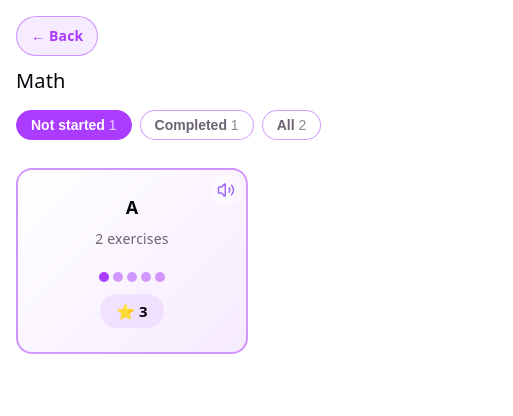
Scenario: BundleList completion filter › switches to completed and back to all
This screenshot has width=513, height=416.
Expected: the link "A 2 exercises ⭐ 3" is shown, 16,168 -> 248,354
Click the button "Completed 1".
click(197, 125)  # box 140,110 -> 254,140
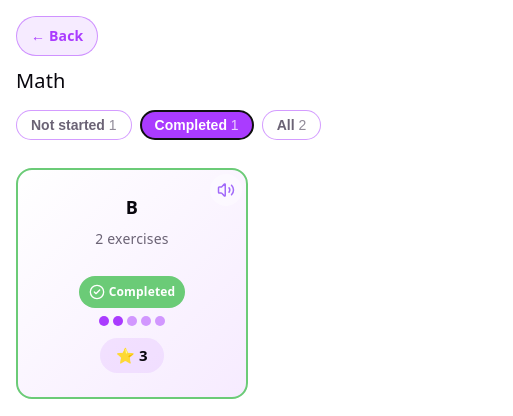
Expected: the link "B 2 exercises Completed ⭐ 3" is shown, 16,168 -> 248,399
Click the button "All 2".
click(291, 125)  # box 262,110 -> 321,140
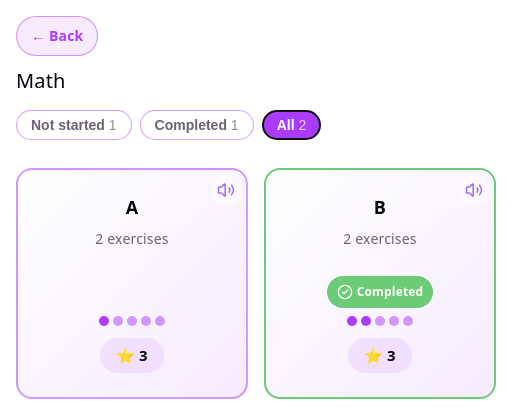
Expected: the link "B 2 exercises Completed ⭐ 3" is shown, 264,168 -> 496,399
Expected: the link "A 2 exercises ⭐ 3" is shown, 16,168 -> 248,399
